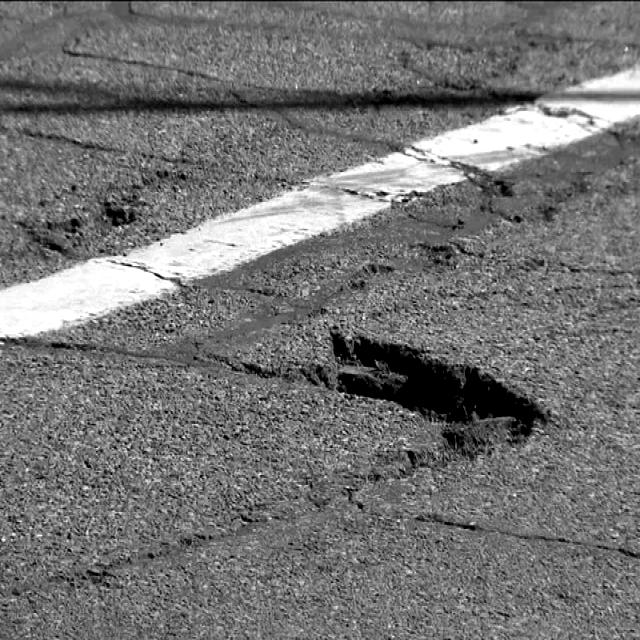pathole: (332, 333, 542, 428)
